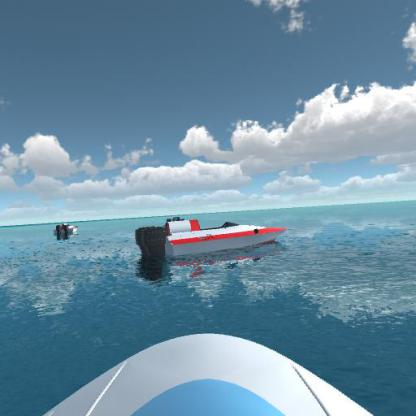usv3: (132, 217, 290, 261), (52, 218, 81, 240)
